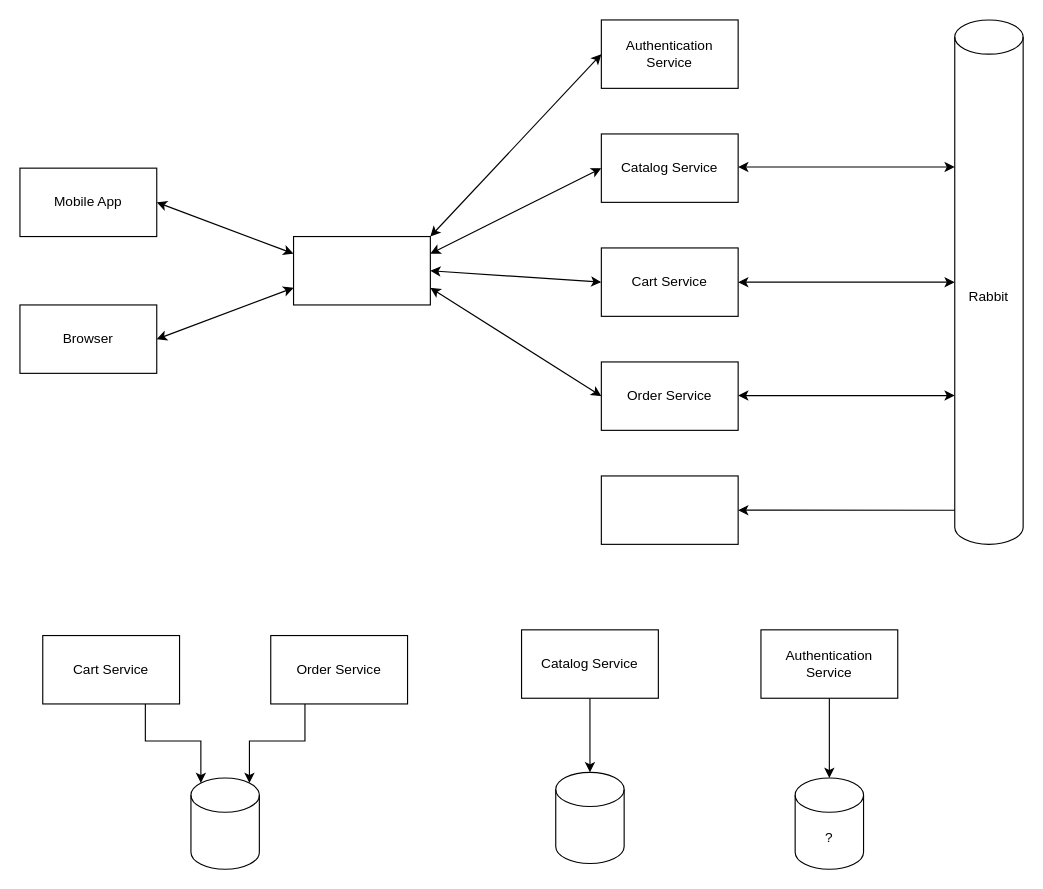
Image size: 1043x889. Some labels were removed from this diagram. Each missing label, with the box of its shape:
MongoDb: (190, 777, 259, 869)
Nginx: (292, 235, 430, 305)
Notification Service: (600, 475, 738, 544)
Postgres: (555, 771, 624, 864)
